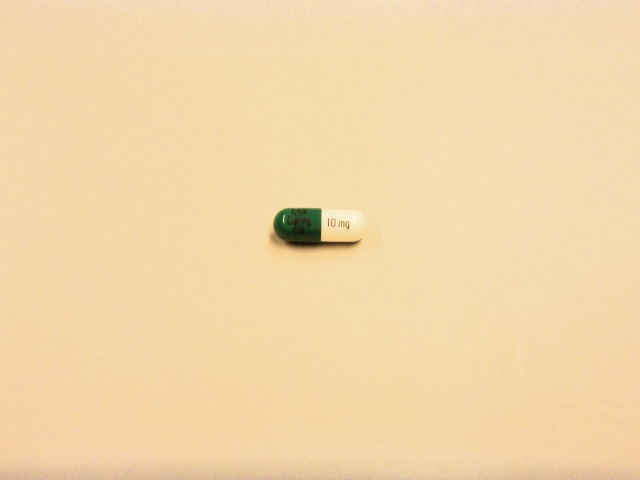capsule: (272, 207, 365, 244)
